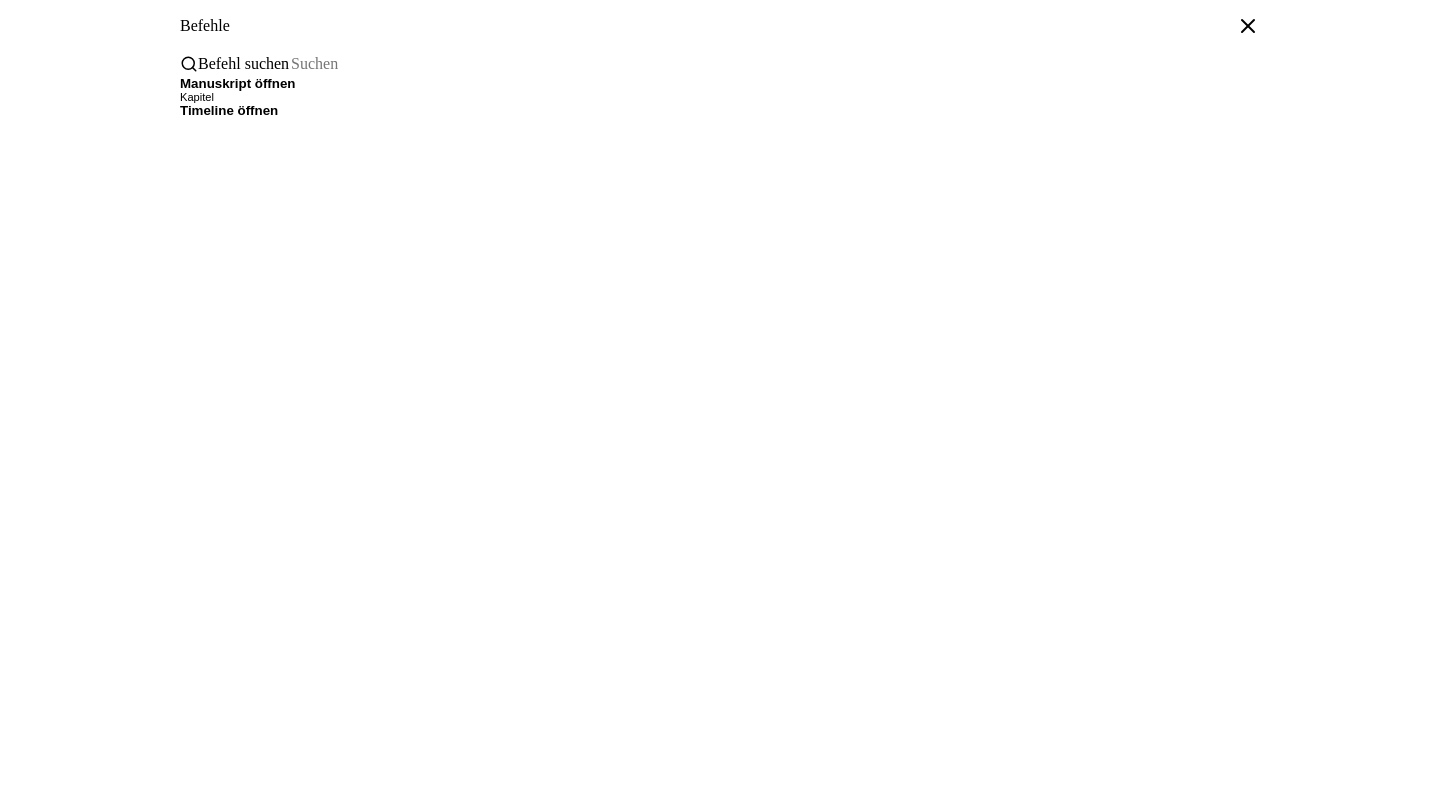
CommandPalette › exposes an explicitly labelled combobox and filters across item copy
This screenshot has width=1440, height=810.
In the dropdown labelled "Befehl suchen": x=775, y=64 [289, 54, 1260, 74], type "Moment"
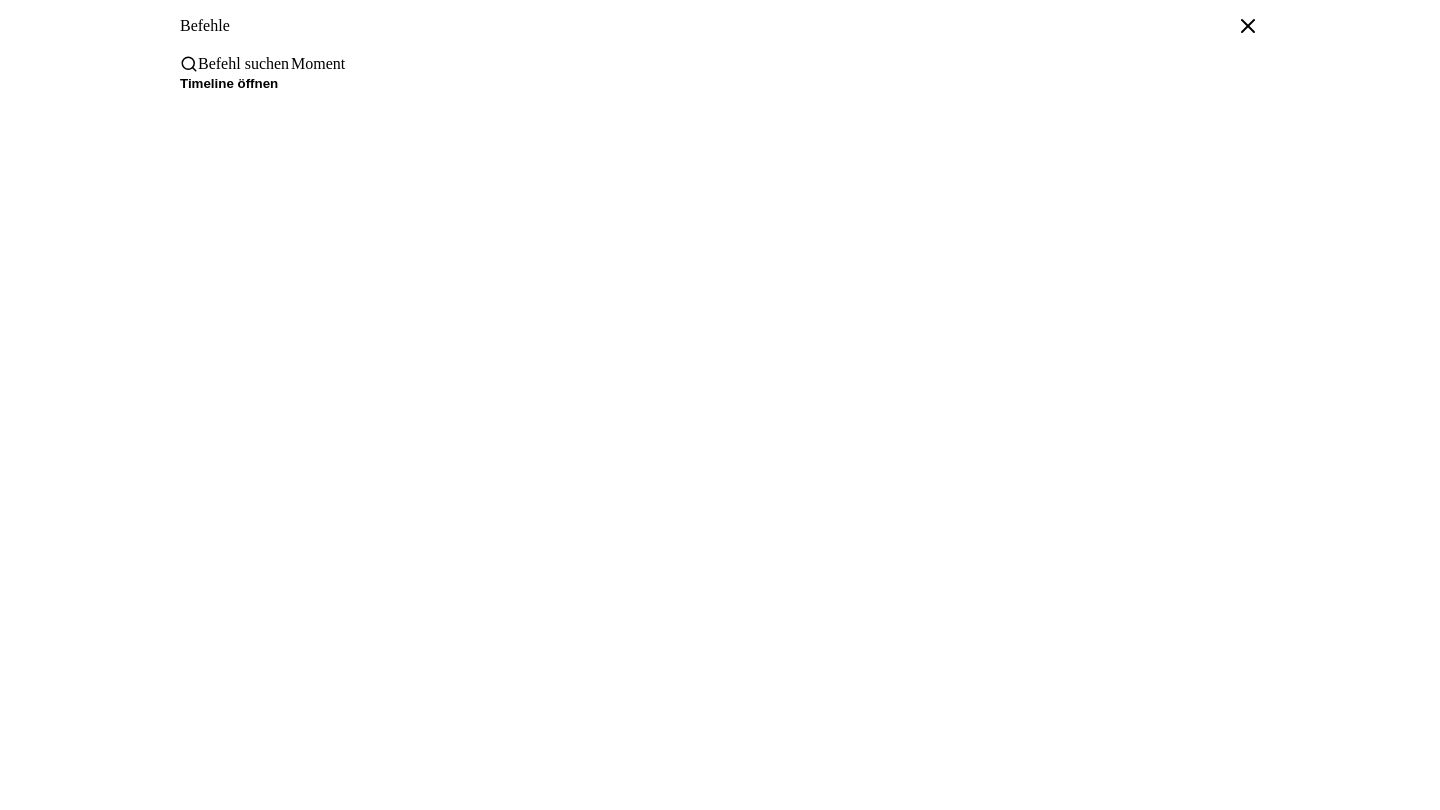
Expected: the option "Manuskript" is gone
